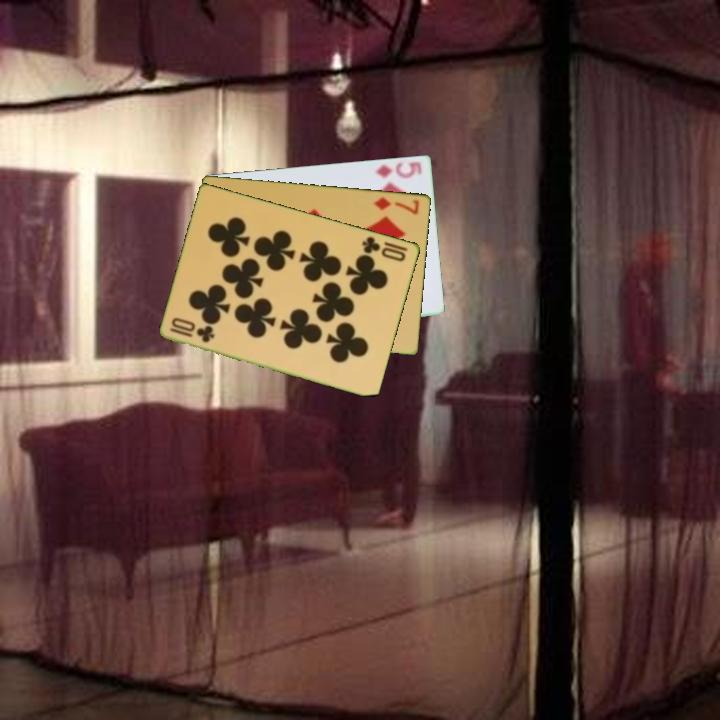10c: (359, 233, 409, 264), (166, 324, 218, 345)
5d: (373, 158, 425, 181)
7d: (370, 193, 423, 217)
